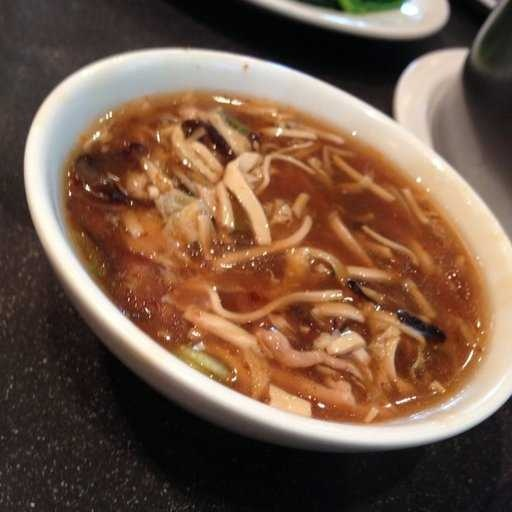soup: (23, 53, 496, 421)
